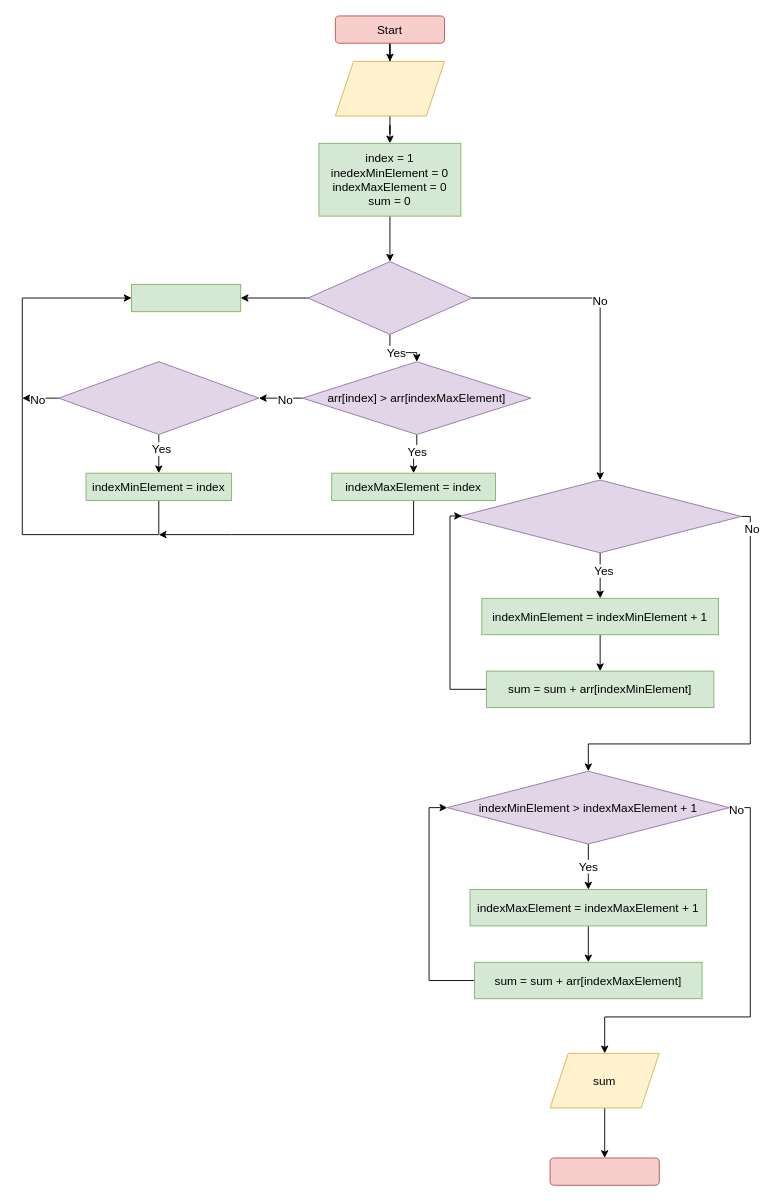
Some shapes in this 775 by 1201 pixel diagram are drawn without their labels. The centre of each missing label's shape, as x and y in pixels:
"arr = []" belongs at point 389,88.
"arr[index] < arr[indexMinElement]" belongs at point 158,398.
"End" belongs at point 604,1171.
"index < arr.lenght()" belongs at point 389,297.
"index = index + 1" belongs at point 186,297.
"indexMaxElement > indexMinElement + 1" belongs at point 599,516.
